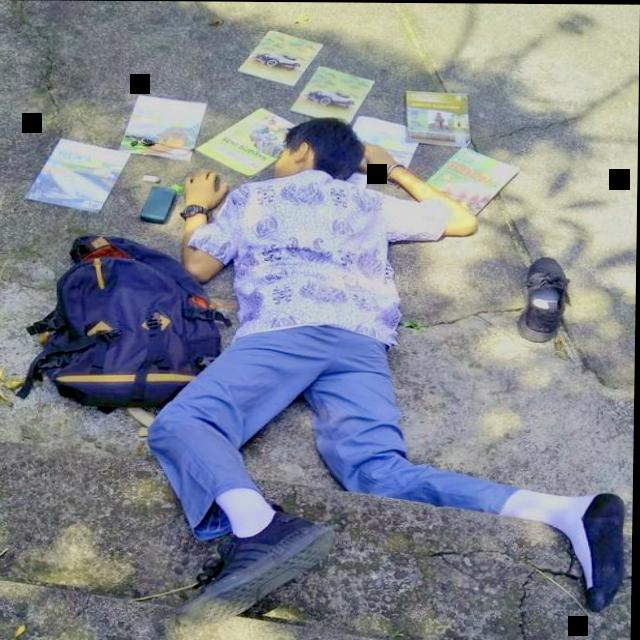Fall-Detected: (93, 92, 595, 628)
